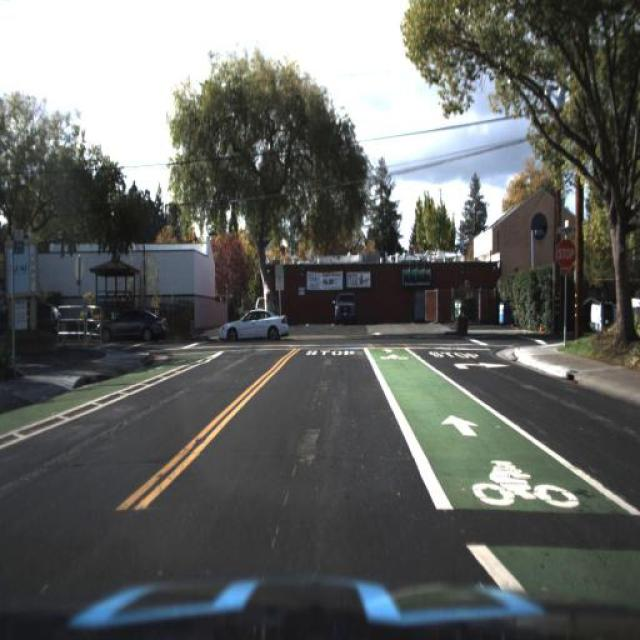car: (586, 275, 640, 354), (586, 273, 640, 337), (216, 306, 290, 346), (90, 310, 166, 344), (327, 288, 359, 331)
trafficLight: (44, 294, 64, 356)
